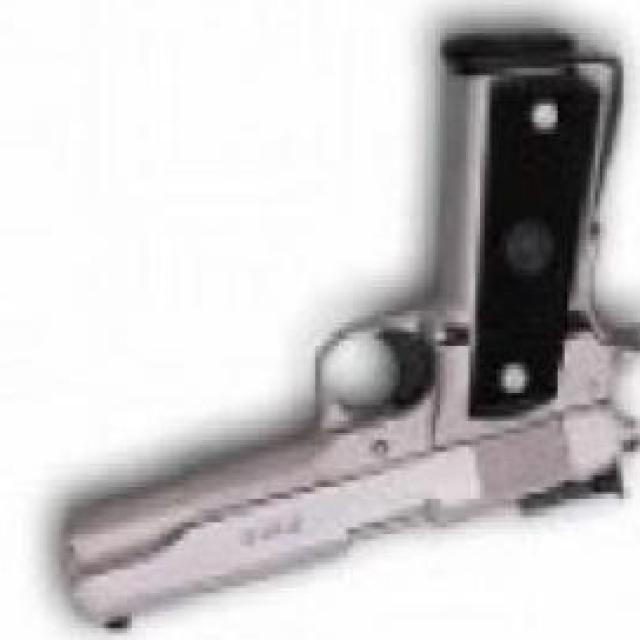pistol: (66, 24, 640, 640)
